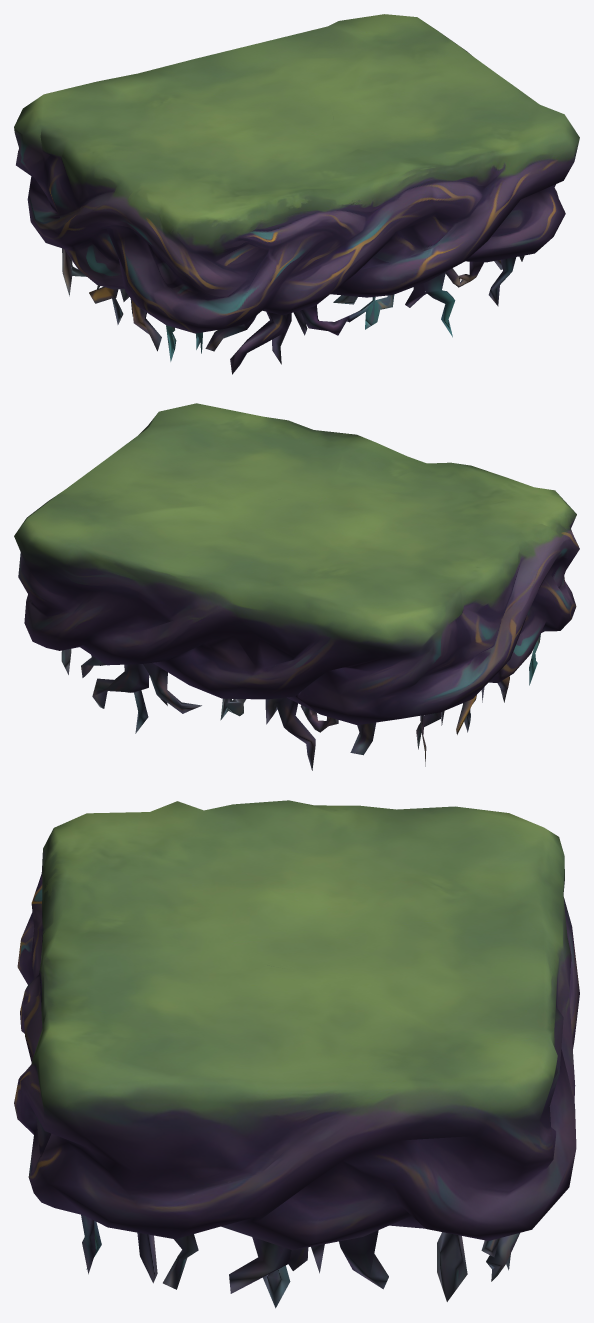
The model's file is env_root_platform_2m_a.glb.
The picture shows the model from 3 angles, top to bottom: view 1: azimuth 30°, elevation 25°; view 2: azimuth 150°, elevation 25°; view 3: azimuth 270°, elevation 25°; orthographic projection. The views are drawn at different scales.
Visible parts, largest first — view 1: tripo_node_ea0d8f74-9e20-4165-939c-90c549f23331; view 2: tripo_node_ea0d8f74-9e20-4165-939c-90c549f23331; view 3: tripo_node_ea0d8f74-9e20-4165-939c-90c549f23331.
Part boxes in pixels (bbox=[...]): tripo_node_ea0d8f74-9e20-4165-939c-90c549f23331: bbox=[14, 14, 579, 374]; tripo_node_ea0d8f74-9e20-4165-939c-90c549f23331: bbox=[14, 403, 579, 770]; tripo_node_ea0d8f74-9e20-4165-939c-90c549f23331: bbox=[14, 800, 579, 1308].
Bounding box in the file's own units: 1 × 0.4172 × 0.7771.
Materials: 1 (1 with a texture image).
